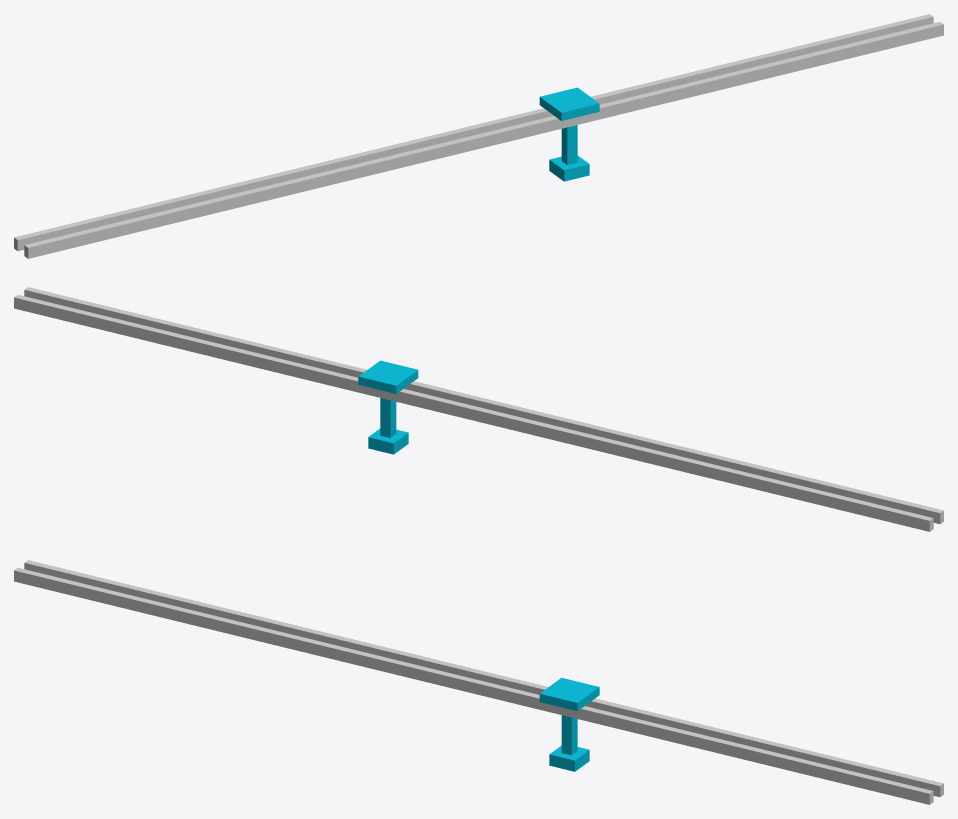
The model's file is HeadBuildMachine.fbx.
The picture shows the model from 3 angles, top to bottom: view 1: azimuth 30°, elevation 25°; view 2: azimuth 150°, elevation 25°; view 3: azimuth 330°, elevation 25°; orthographic projection.
Visible parts, largest first — view 1: HeadMachineWay, BodyMachineCarry; view 2: HeadMachineWay, BodyMachineCarry; view 3: HeadMachineWay, BodyMachineCarry.
Boxes of the visible parts, x1=… form: HeadMachineWay: x1=14, y1=14, x2=943, y2=258; BodyMachineCarry: x1=539, y1=87, x2=599, y2=181; HeadMachineWay: x1=14, y1=287, x2=943, y2=531; BodyMachineCarry: x1=358, y1=360, x2=418, y2=454; HeadMachineWay: x1=14, y1=560, x2=943, y2=804; BodyMachineCarry: x1=539, y1=677, x2=599, y2=771.
Size of the model in its own units: 658 by 27.29 by 50.09.
